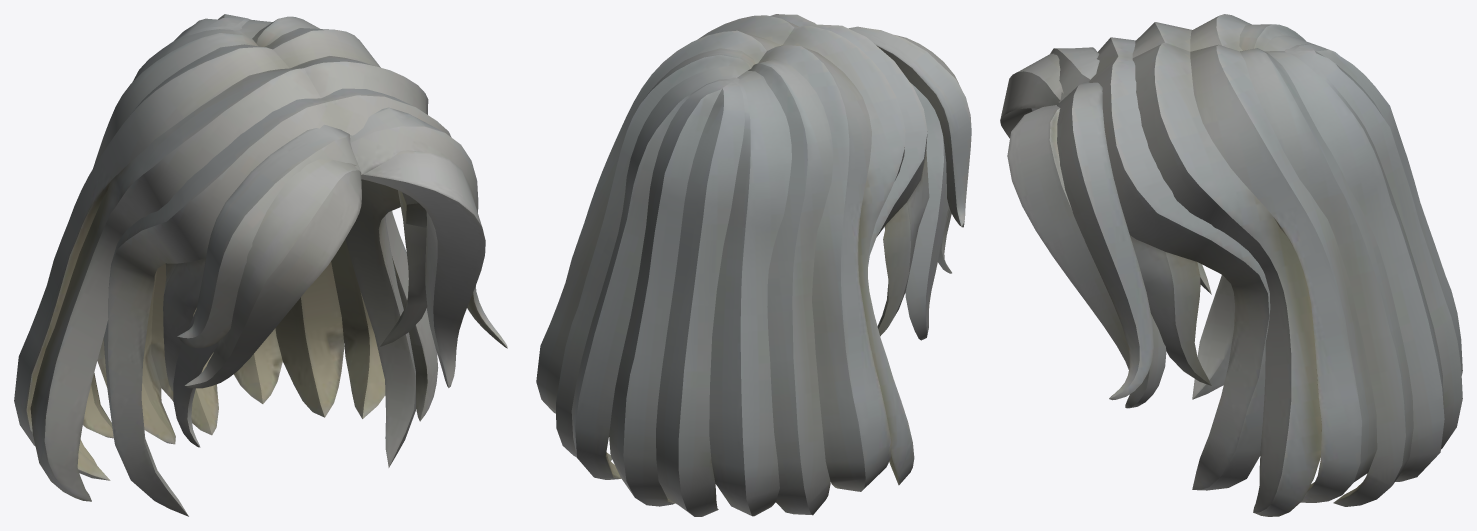
The model's file is hair-long.glb.
3 renders of one model, left to right at view 1: azimuth 30°, elevation 25°; view 2: azimuth 150°, elevation 25°; view 3: azimuth 270°, elevation 25°, orthographic. The views are drawn at different scales.
Parts seen in each view (by area): view 1: Hair_Long; view 2: Hair_Long; view 3: Hair_Long.
Boxes of the visible parts, left/top/right/bottom form: Hair_Long: left=14, top=14, right=507, bottom=516; Hair_Long: left=536, top=14, right=971, bottom=516; Hair_Long: left=1000, top=14, right=1462, bottom=516.
Bounding box in the file's own units: 0.2447 × 0.2764 × 0.2704.
1 material, 1 textured.
